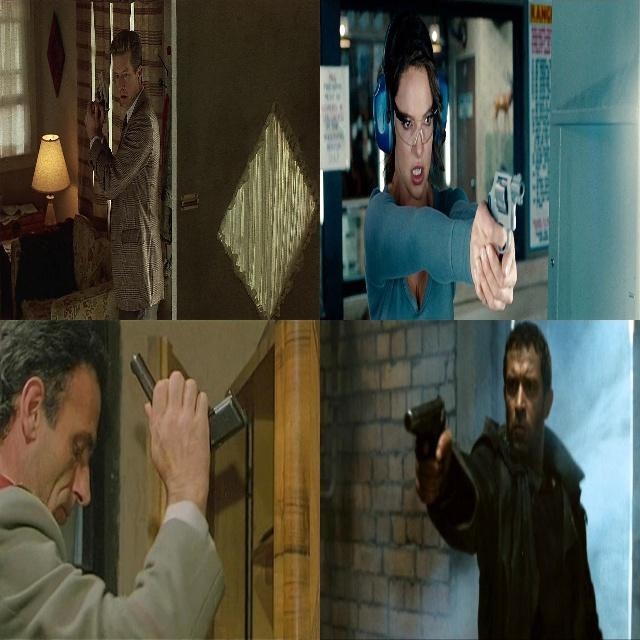gun-knife-thesis - v11 Yolov5 augmented: (120, 337, 246, 472), (397, 384, 457, 514), (475, 158, 527, 296), (82, 67, 110, 135)
